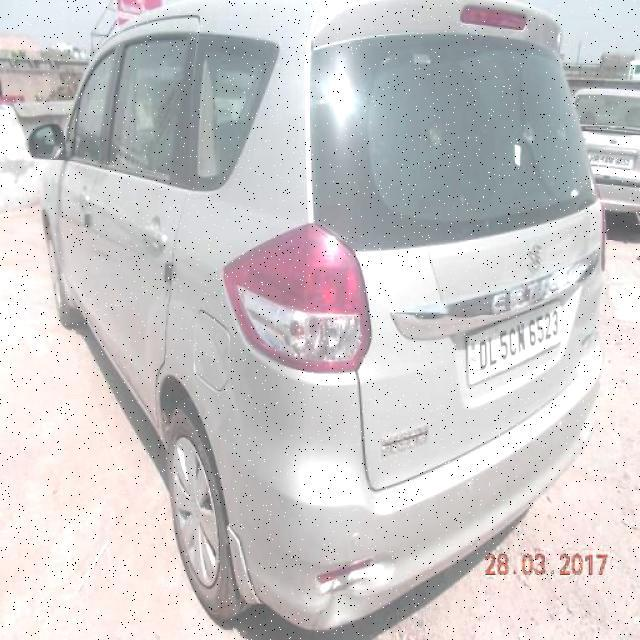car damage: (310, 550, 396, 628)
